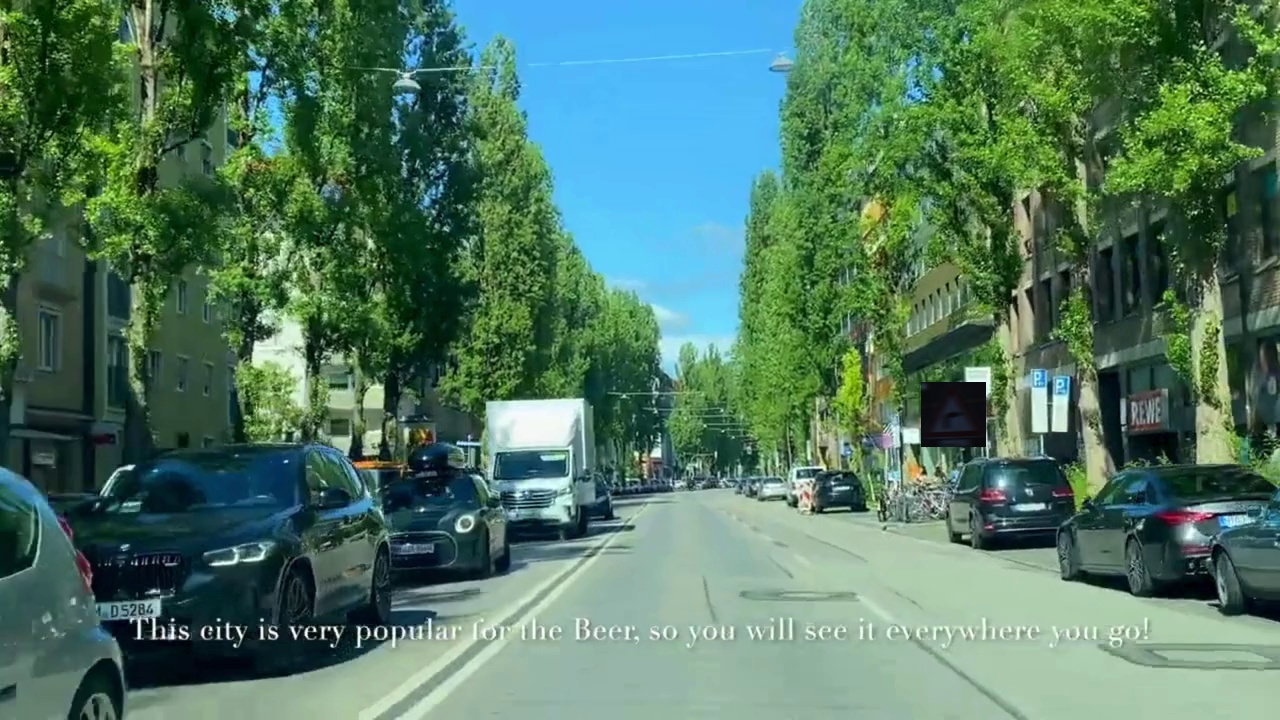Curve right: (921, 382, 986, 447)
